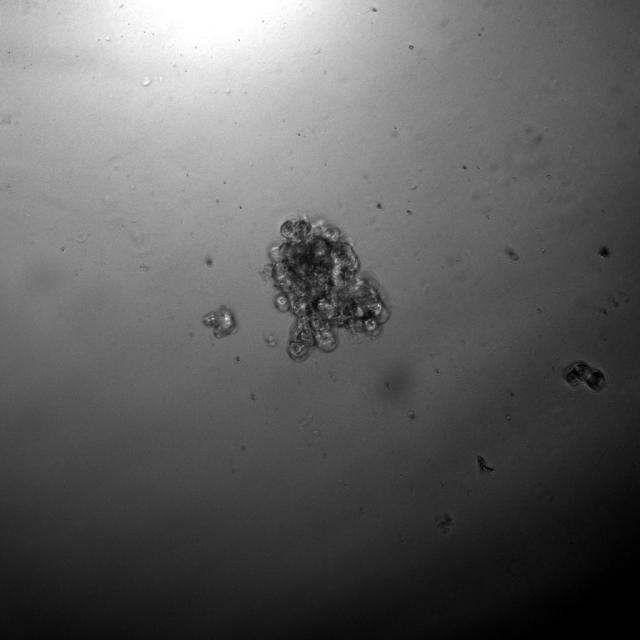organoid: (260, 217, 388, 361), (564, 361, 608, 393), (203, 306, 236, 338)
